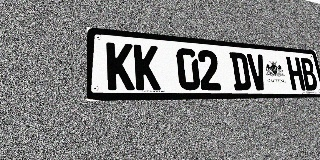0: (176, 48, 201, 90)
2: (197, 49, 221, 90)
B: (299, 58, 319, 90)
D: (229, 52, 252, 90)
H: (286, 57, 306, 90)
K: (106, 42, 135, 90), (134, 44, 161, 90)
V: (247, 53, 268, 90)
